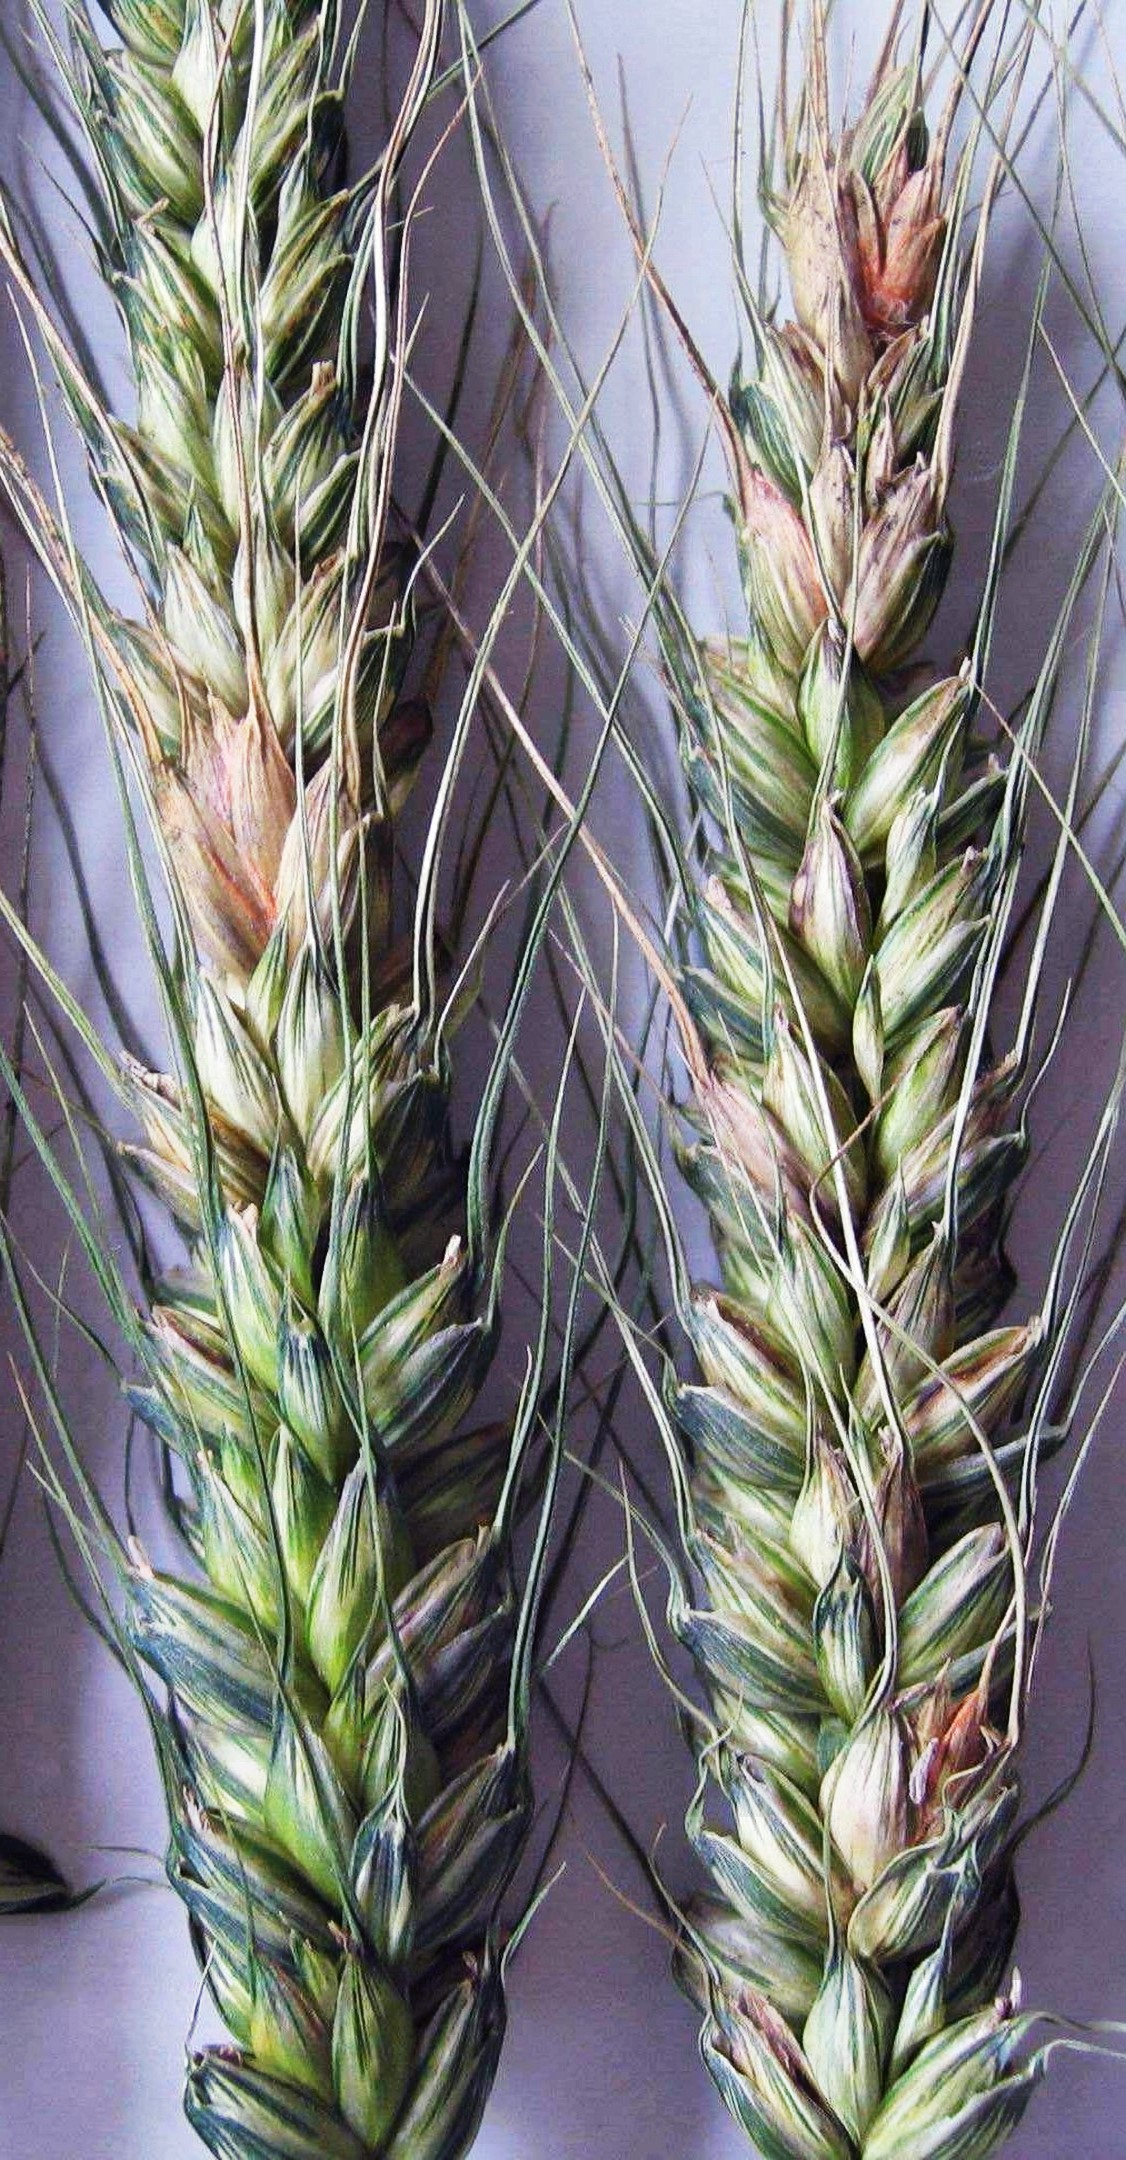Wheat scab: (613, 111, 1120, 2159), (83, 40, 542, 2139)
